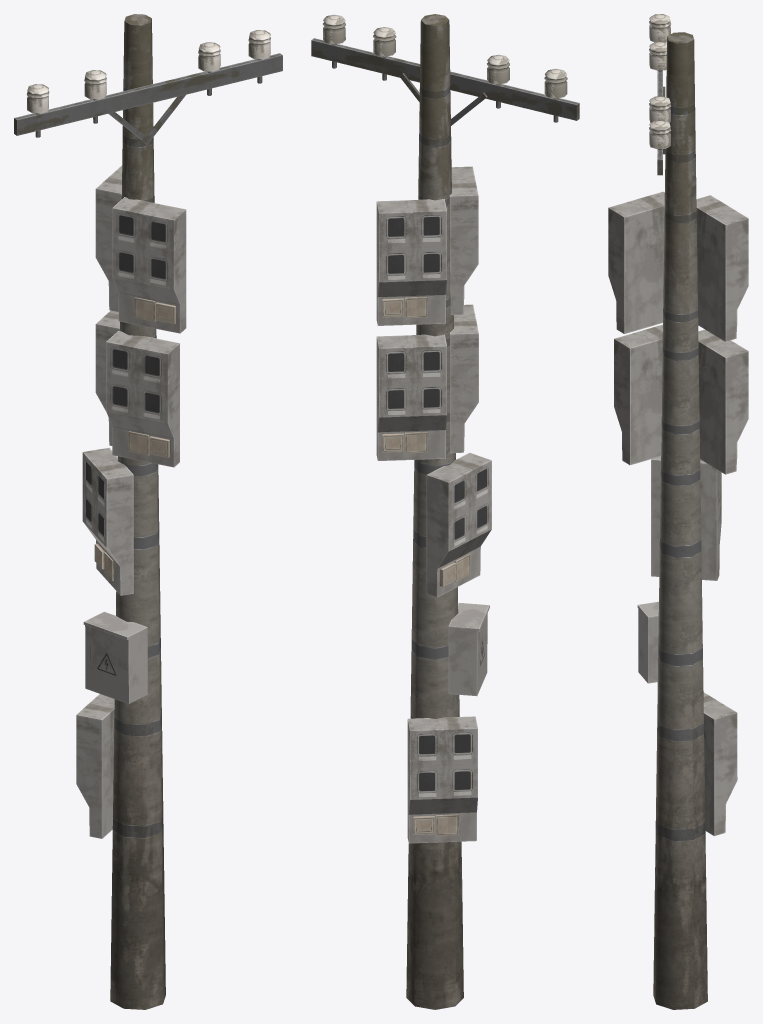
File: SM_ElectricPole_1V.fbx
3 renders of one model, left to right at view 1: azimuth 30°, elevation 25°; view 2: azimuth 150°, elevation 25°; view 3: azimuth 270°, elevation 25°, orthographic.
Parts seen in each view (by area): view 1: SM_ElectricPole_1V; view 2: SM_ElectricPole_1V; view 3: SM_ElectricPole_1V.
Boxes of the visible parts, x1,y1,x2,y2 form: SM_ElectricPole_1V: (14,14,282,1009); SM_ElectricPole_1V: (311,14,579,1009); SM_ElectricPole_1V: (608,14,748,1009).
Bounding box in the file's own units: 182 × 640 × 84.8.
